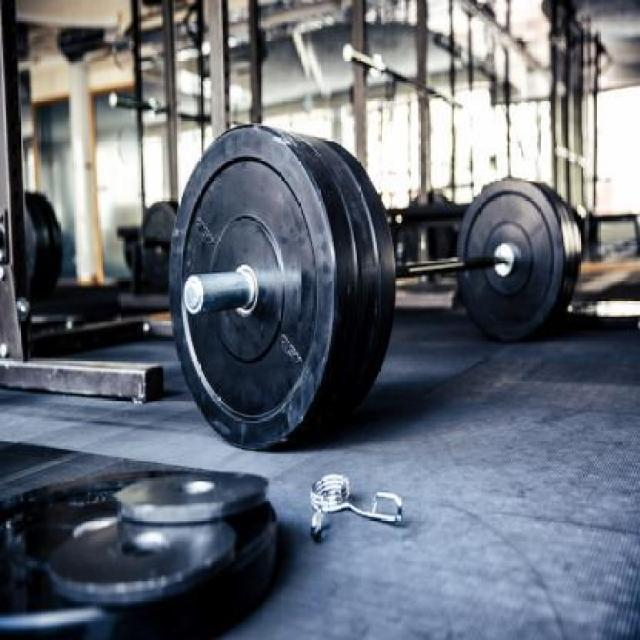Barbell: (179, 266, 212, 325)
